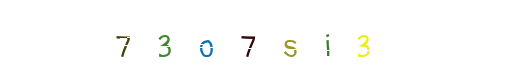3: (166, 0, 246, 80), (324, 0, 404, 80)
7: (158, 0, 238, 80), (204, 0, 284, 80)
I: (217, 0, 297, 80)
O: (169, 0, 249, 80)
S: (209, 0, 289, 80)
